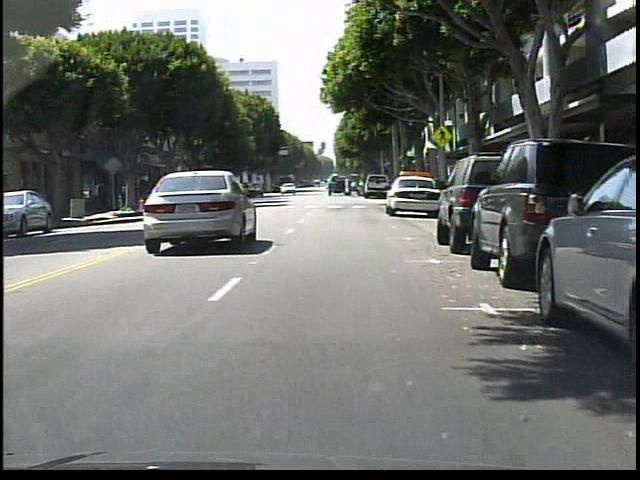person: (91, 178, 103, 212), (121, 182, 129, 209), (348, 175, 349, 197)
